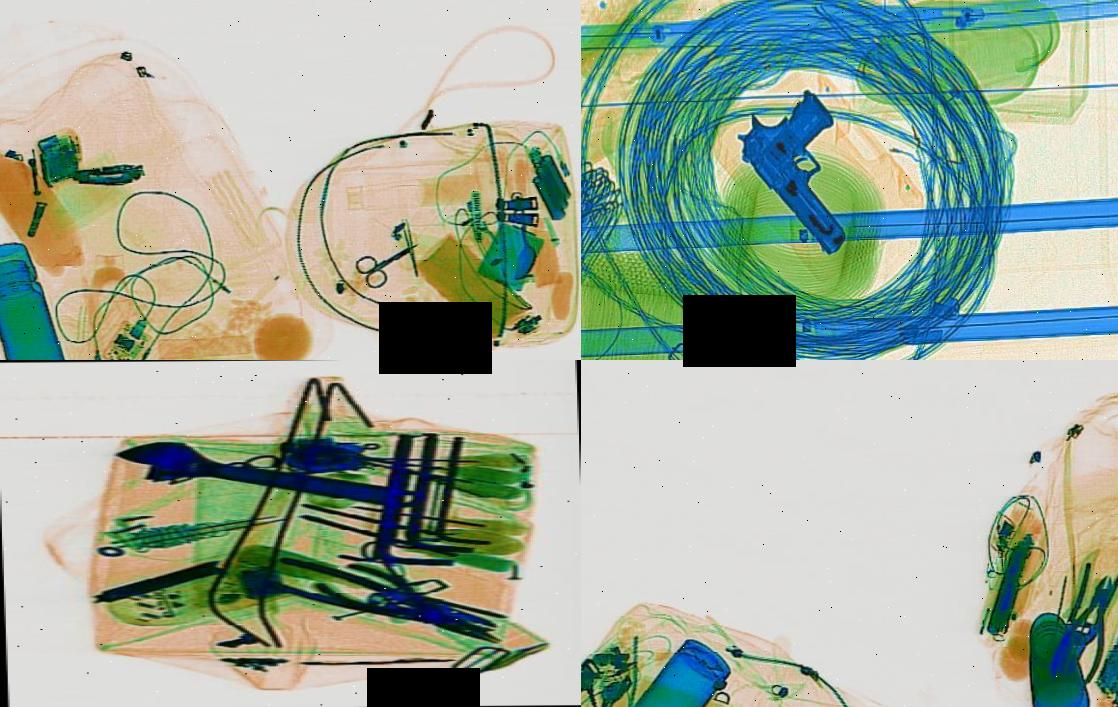Gun: (696, 85, 942, 252)
Pliers: (256, 551, 512, 645), (309, 555, 523, 659), (1043, 570, 1118, 682), (1053, 559, 1118, 651)
Scissors: (351, 228, 430, 290)
Wrench: (106, 430, 436, 525)
